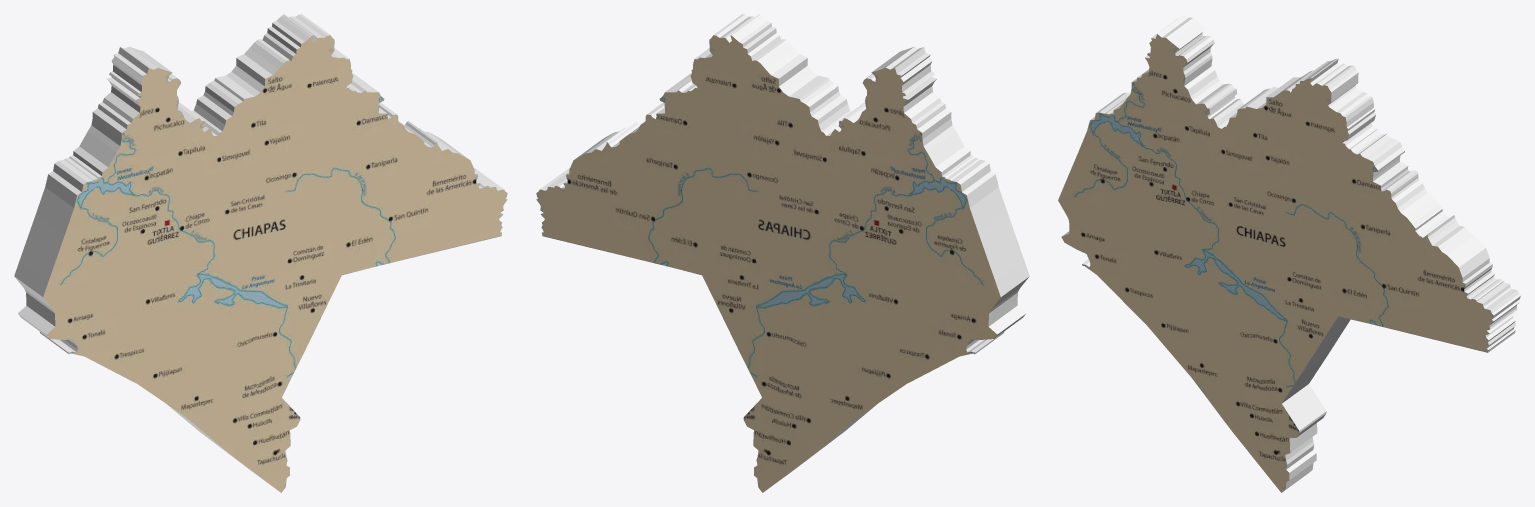
Rendered from chiapas.glb.
The picture shows the model from 3 angles, left to right: view 1: azimuth 30°, elevation 25°; view 2: azimuth 150°, elevation 25°; view 3: azimuth 330°, elevation 25°; orthographic projection. The views are drawn at different scales.
Parts seen in each view (by area): view 1: Plano; view 2: Plano; view 3: Plano.
Part boxes in pixels (left/top/right/bottom): Plano: left=14, top=14, right=507, bottom=492; Plano: left=536, top=14, right=1029, bottom=492; Plano: left=1058, top=14, right=1520, bottom=492.
Bounding box in the file's own units: 1.35 × 1.26 × 0.1451.
Materials: 1 (1 with a texture image).
